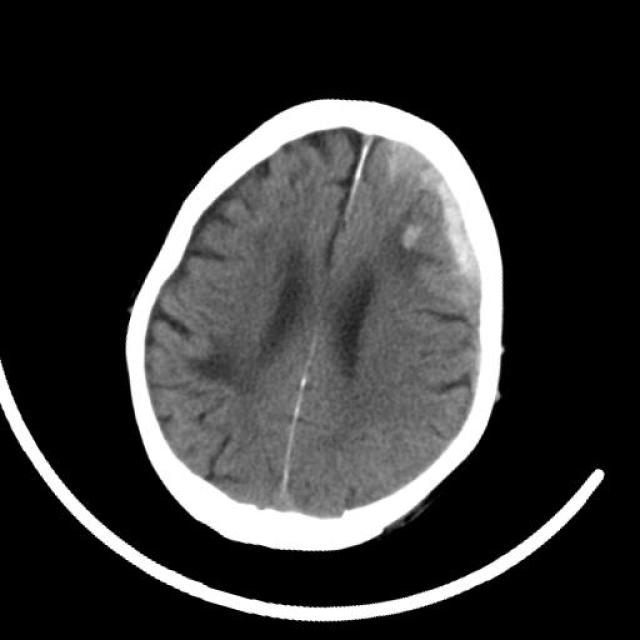Intraparenchymal: (367, 202, 445, 272)
Subdural: (334, 119, 520, 295)
